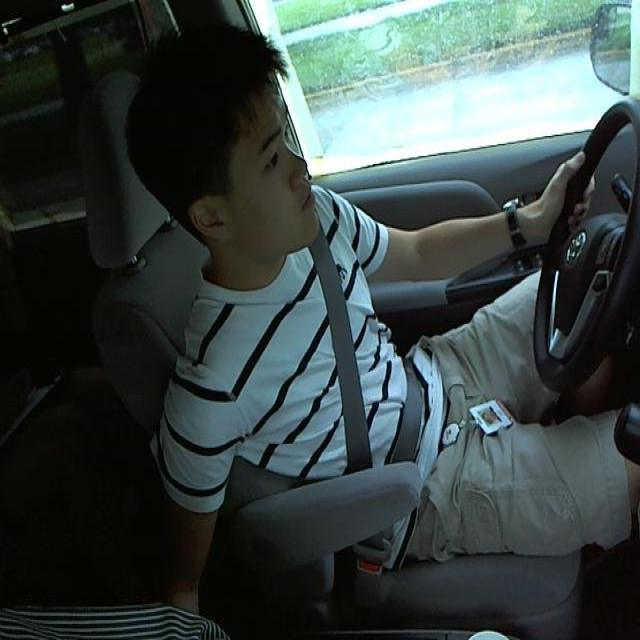seatbelt: (305, 259, 430, 468)
